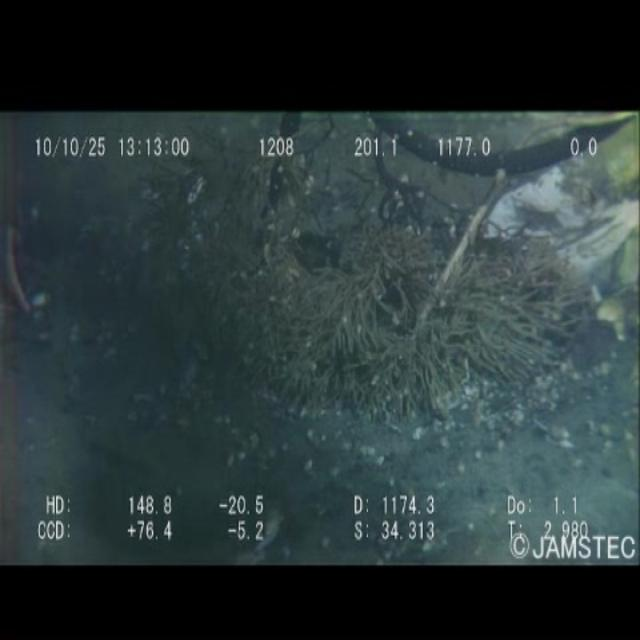Natual-Debris: (141, 149, 584, 428), (0, 224, 56, 325)
